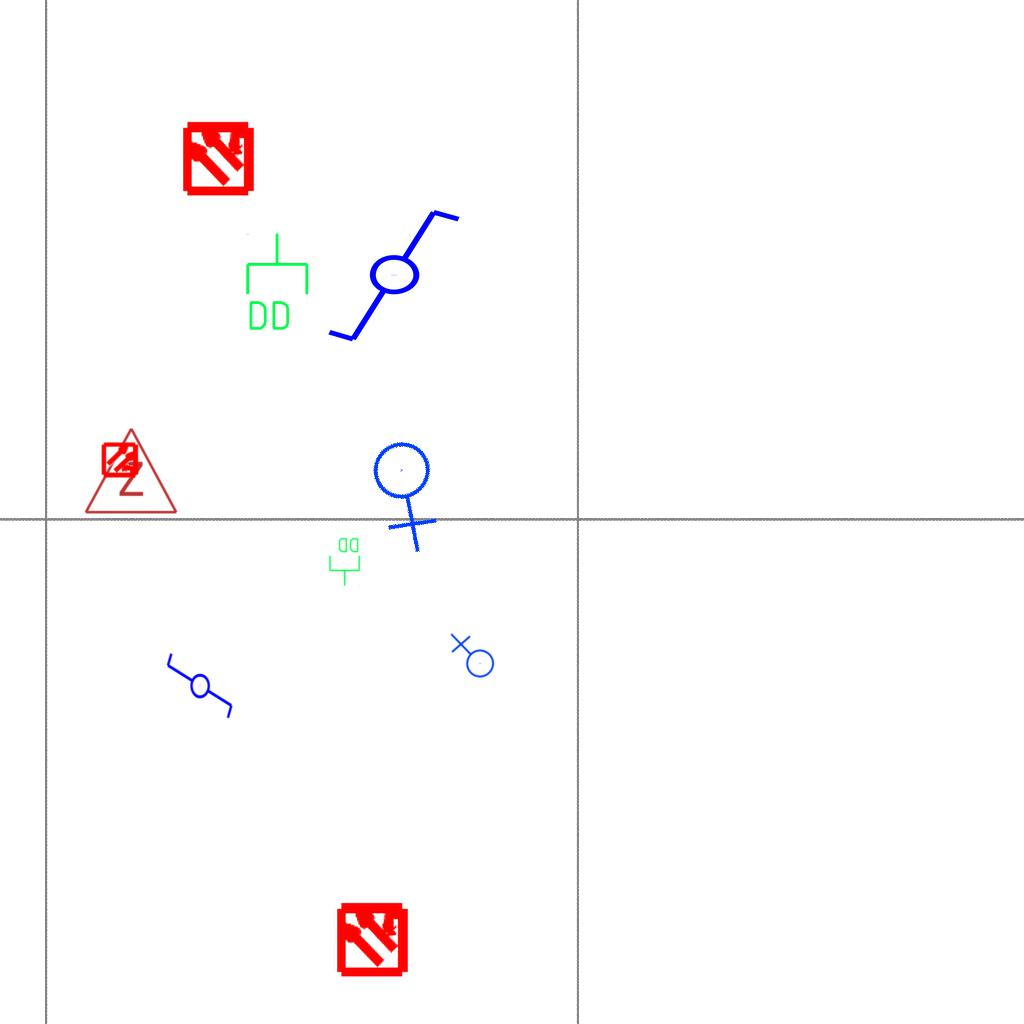Datenanschluss_zweifach: (242, 231, 311, 334), (328, 536, 362, 587)
Elektroanschluss_allgemein_230V_Geraeteanschlussdose_230V: (343, 422, 476, 558), (448, 633, 495, 682)
OT_Multisensormelder_(Kombination_RMO_WMD): (162, 100, 275, 213), (316, 881, 429, 994), (93, 432, 149, 488)
Wechselschalter: (324, 205, 481, 349), (163, 651, 235, 729)
Zimmersignalleuchte: (81, 421, 179, 521)
